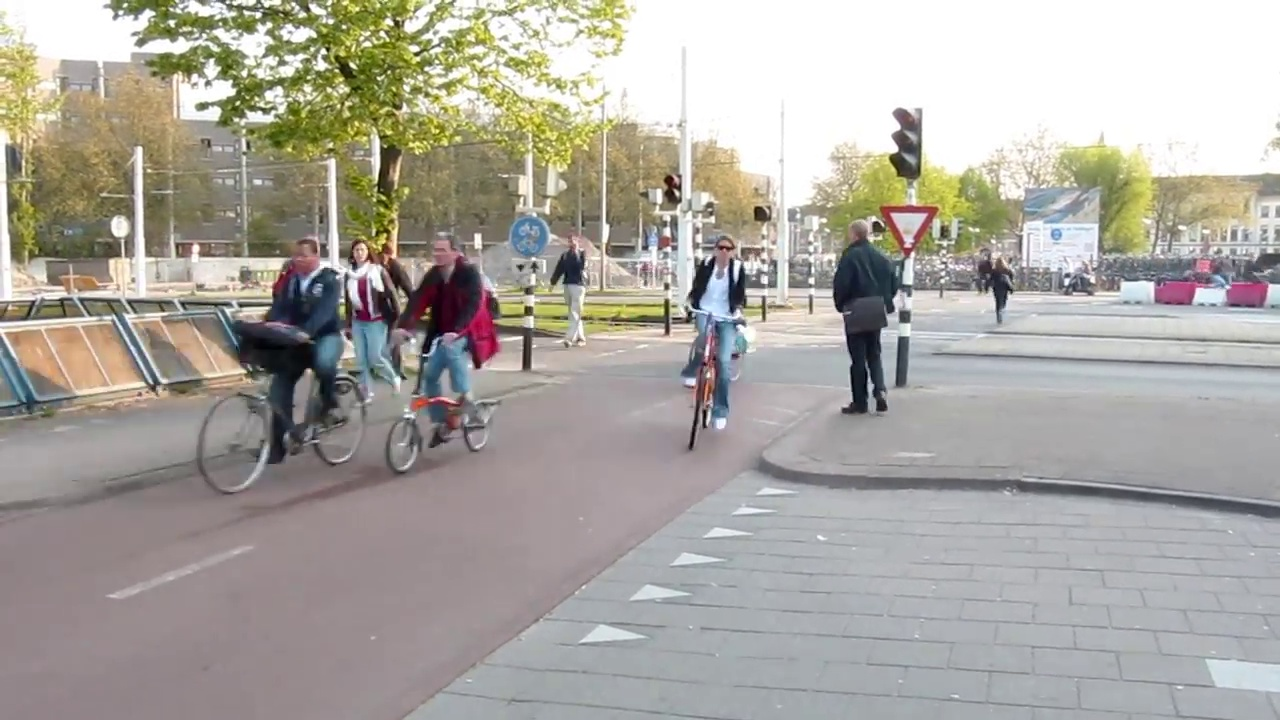cyclist_front: (395, 223, 505, 469), (677, 232, 751, 458)
cyclist_side: (201, 235, 376, 493)
